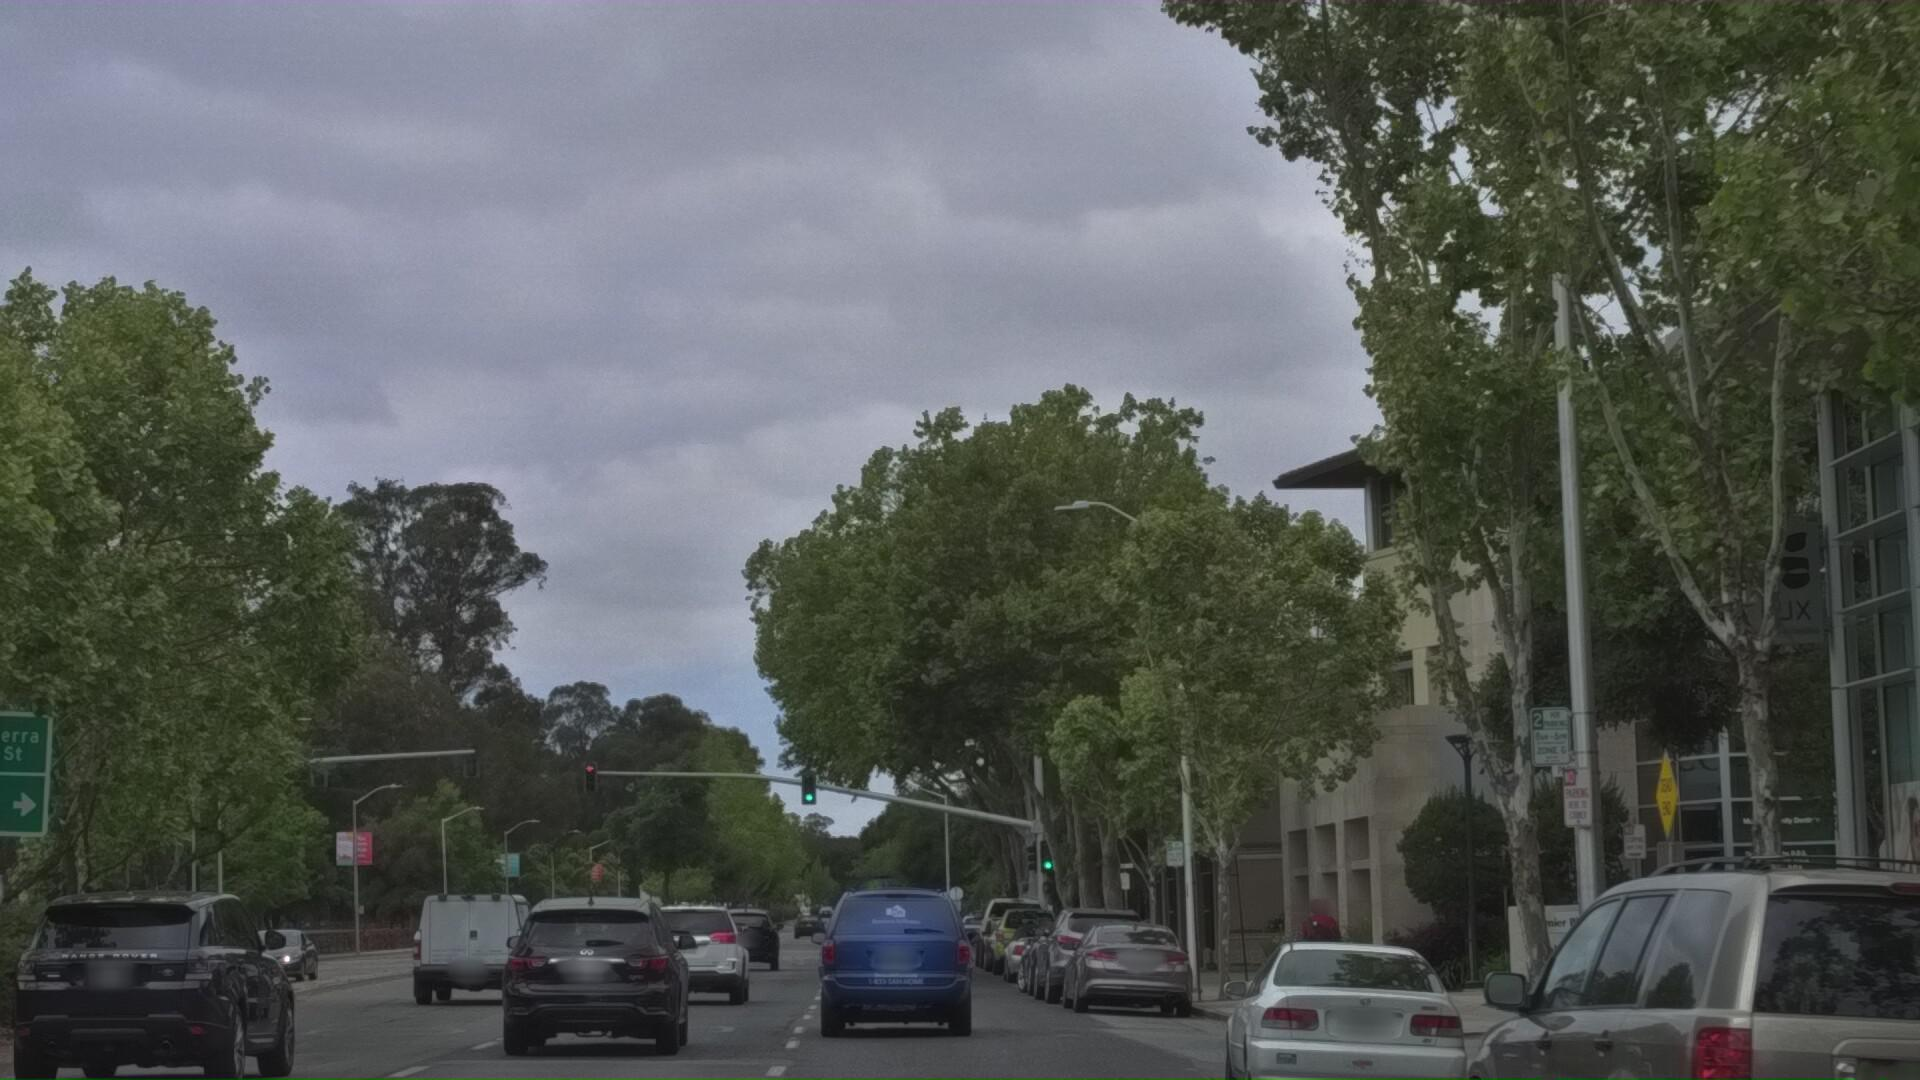bicycle: (1284, 928, 1353, 1071)
car: (1422, 858, 1920, 1080), (0, 918, 334, 1080), (1215, 953, 1501, 1080), (500, 927, 720, 1080), (814, 909, 997, 1080), (1663, 971, 1920, 1080), (410, 926, 562, 1062), (644, 926, 786, 1065), (1064, 934, 1211, 1048), (1035, 924, 1170, 1035)
